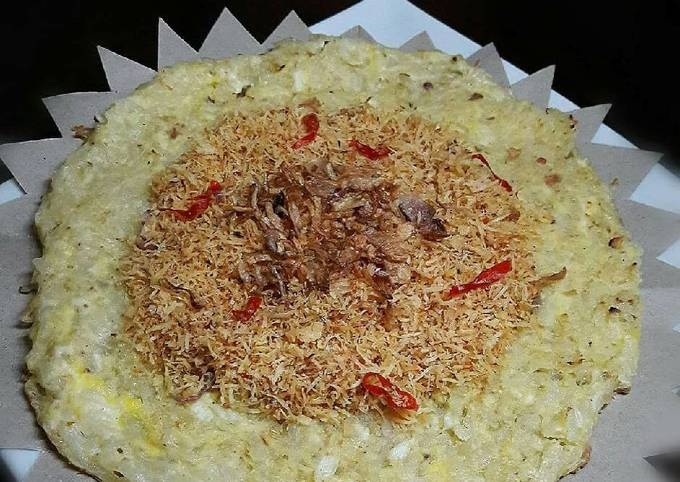kerak_telor: (124, 105, 531, 415)
